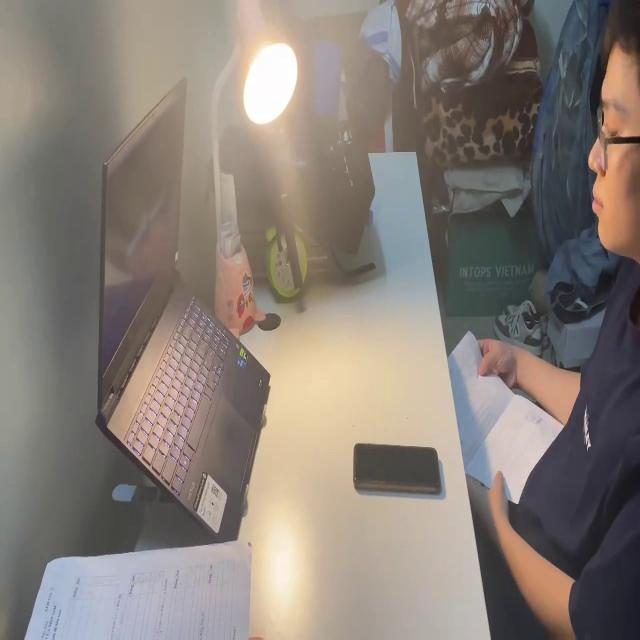book: (24, 539, 252, 640), (444, 325, 566, 512)
laptop: (91, 69, 272, 542)
phone: (351, 438, 444, 501)
student: (460, 0, 640, 640)
